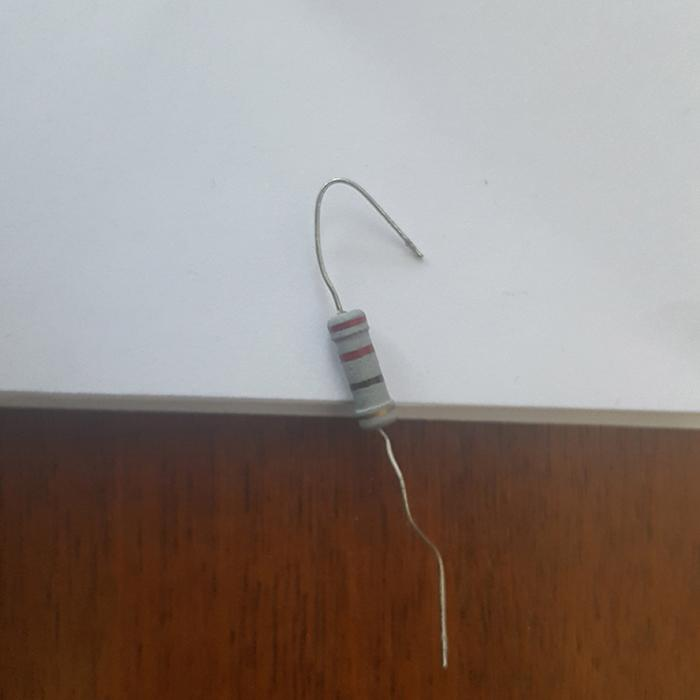resistor: (325, 304, 396, 429)
